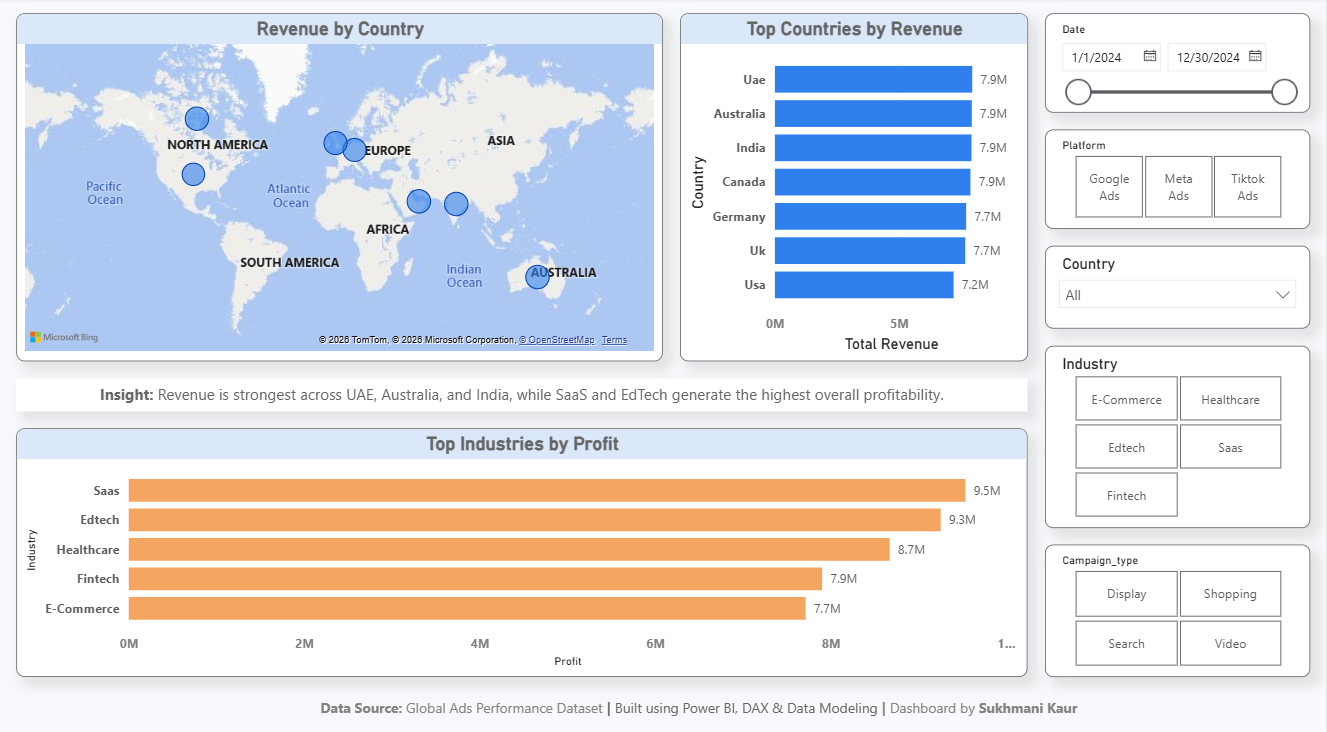

Layout of this report page (visuals, bound fields, positions):
{"tool":"powerbi","page":{"name":"Geo & Industry Insights","canvas":[1280,720],"ordinal":2},"visuals":[{"type":"map","title":"Revenue by Country","fields":{"Category":["dim_country.Country"],"Size":["Fact_Ads_Performance.Total Revenue"]},"box":[16,16,624,336],"z":0},{"type":"clusteredBarChart","title":"Top Industries by Profit","fields":{"Category":["dim_industry.Industry"],"Y":["Fact_Ads_Performance.Profit"]},"box":[16,416,976,240],"z":1000},{"type":"slicer","fields":{"Values":["dim_date.Date"]},"box":[1008,16,256,96],"z":2000},{"type":"slicer","fields":{"Values":["dim_platform.Platform"]},"box":[1008,128,256,96],"z":3000},{"type":"slicer","fields":{"Values":["dim_country.Country"]},"box":[1008,240,256,80],"z":4000},{"type":"slicer","fields":{"Values":["dim_campaign.Campaign_type"]},"box":[1008,528,256,128],"z":5000},{"type":"slicer","fields":{"Values":["dim_industry.Industry"]},"box":[1008,336,256,176],"z":6000},{"type":"textbox","box":[16,672,1248,32],"z":7000},{"type":"clusteredBarChart","title":"Top Countries by Revenue","fields":{"Category":["dim_country.Country"],"Y":["Fact_Ads_Performance.Total Revenue"]},"box":[656,16,336,336],"z":8000},{"type":"textbox","box":[16,368,976,32],"z":9000}]}

Visuals, with their boxes in screenshot pixels (x1, y1, x2, y2), scaled from the page's 1280x720 canvas onto the 1327x732 screenshot:
"Revenue by Country" map: {"x1": 17, "y1": 16, "x2": 664, "y2": 358}
"Top Industries by Profit" clusteredBarChart: {"x1": 17, "y1": 423, "x2": 1028, "y2": 667}
slicer - dim_date.Date: {"x1": 1045, "y1": 16, "x2": 1310, "y2": 114}
slicer - dim_platform.Platform: {"x1": 1045, "y1": 130, "x2": 1310, "y2": 228}
slicer - dim_country.Country: {"x1": 1045, "y1": 244, "x2": 1310, "y2": 325}
slicer - dim_campaign.Campaign_type: {"x1": 1045, "y1": 537, "x2": 1310, "y2": 667}
slicer - dim_industry.Industry: {"x1": 1045, "y1": 342, "x2": 1310, "y2": 521}
textbox: {"x1": 17, "y1": 683, "x2": 1310, "y2": 716}
"Top Countries by Revenue" clusteredBarChart: {"x1": 680, "y1": 16, "x2": 1028, "y2": 358}
textbox: {"x1": 17, "y1": 374, "x2": 1028, "y2": 407}
